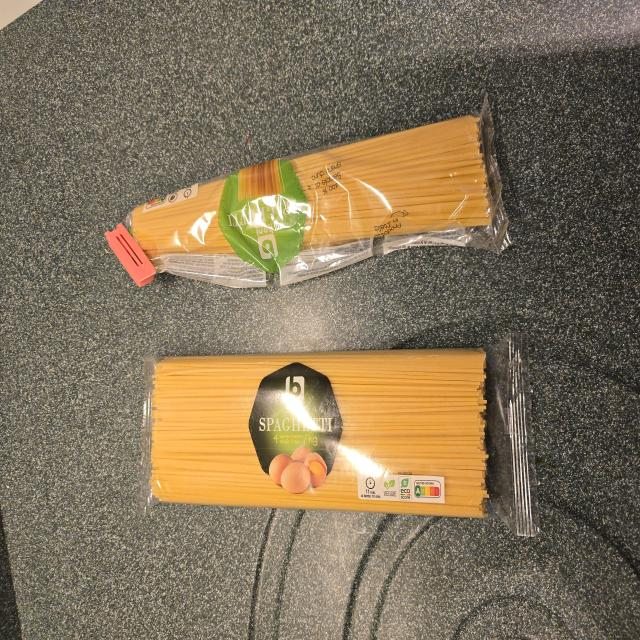Pasta: (126, 98, 509, 287), (145, 348, 489, 518)
